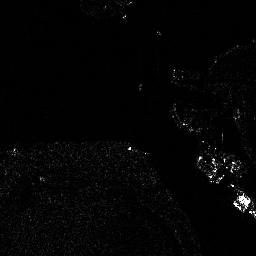ship: (195, 157, 227, 184)
